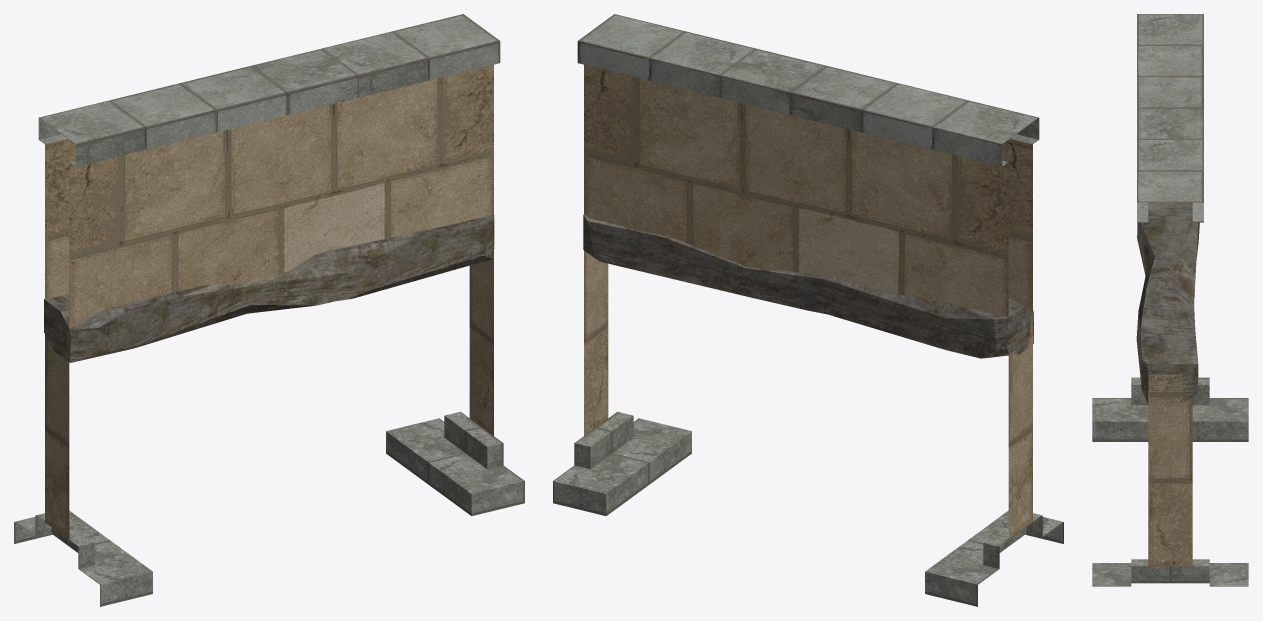
File: arch_sqr_2_2U.fbx
3 views of the same model, side by side, from view 1: azimuth 30°, elevation 25°; view 2: azimuth 150°, elevation 25°; view 3: azimuth 270°, elevation 25° (orthographic). The views are drawn at different scales.
Visible parts, largest first — view 1: arch_sqr_2_2U; view 2: arch_sqr_2_2U; view 3: arch_sqr_2_2U.
Boxes of the visible parts, x1,y1,x2,y2 form: arch_sqr_2_2U: [14, 14, 524, 606]; arch_sqr_2_2U: [553, 14, 1063, 606]; arch_sqr_2_2U: [1092, 14, 1248, 586].
Bounding box in the file's own units: 200 × 200 × 70.
